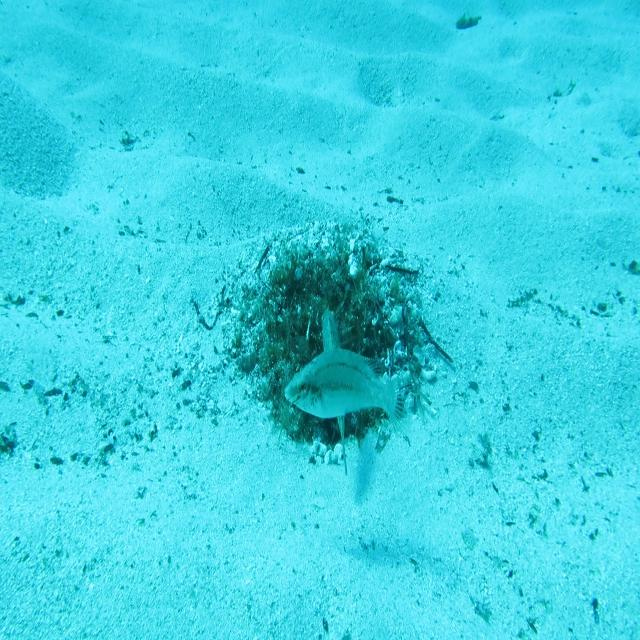FAN: (317, 303, 353, 482)
core_nest: (298, 274, 347, 309)
female: (282, 342, 414, 450)
nest: (217, 214, 439, 476)
vegetation: (454, 12, 488, 30)
